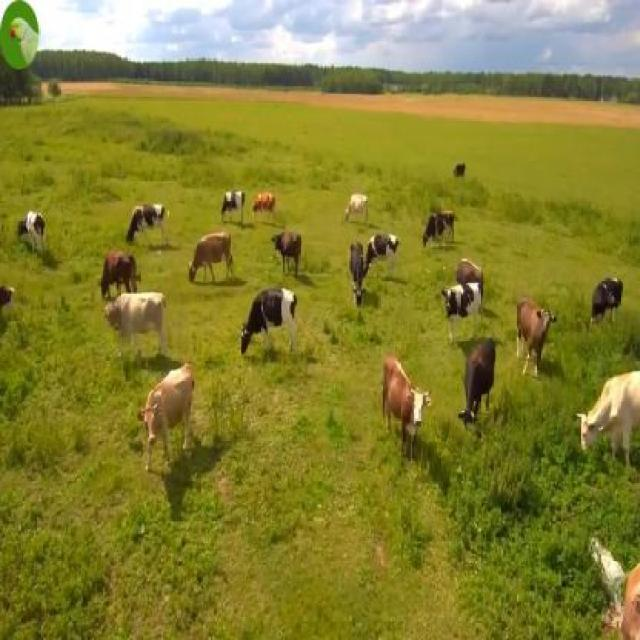Cow: (577, 363, 638, 475), (141, 363, 194, 475), (240, 291, 298, 374), (105, 292, 166, 368)
